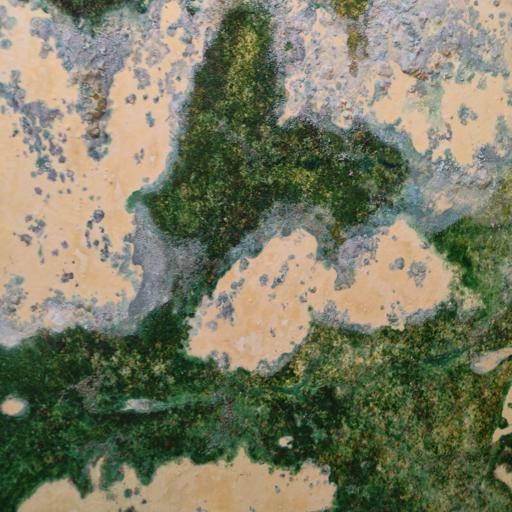algae: (3, 3, 512, 512)
